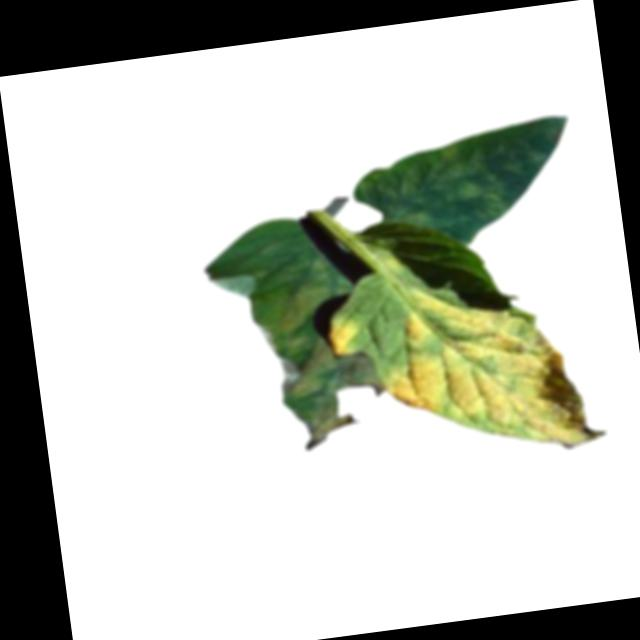Leaf_Mold: (376, 267, 590, 472), (249, 249, 393, 455), (363, 112, 579, 239)
